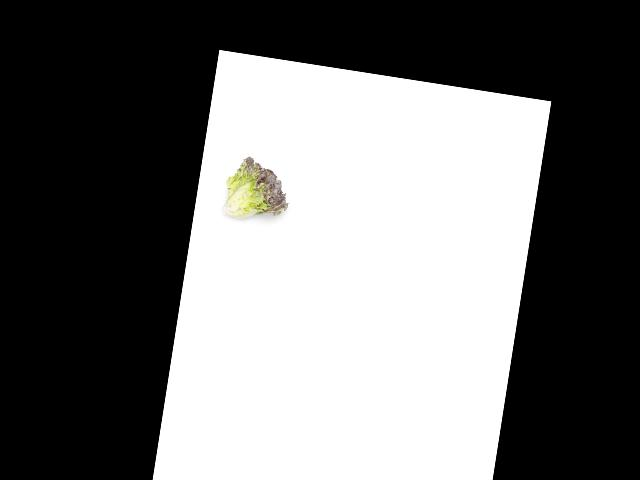lettuce: (218, 154, 298, 226)
